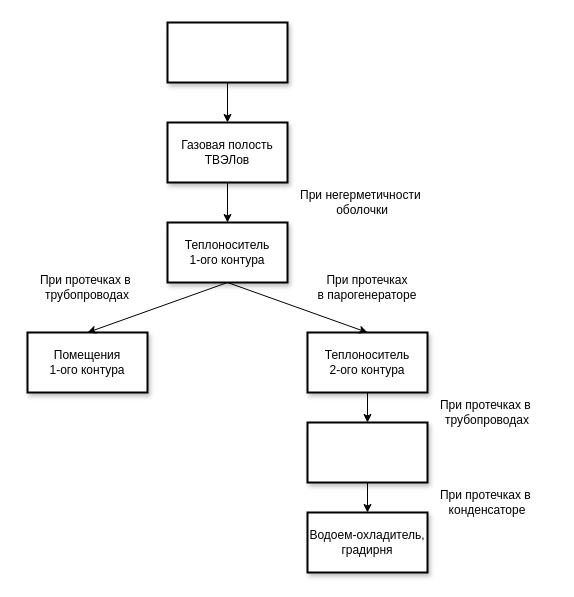
Some shapes in this 574 by 597 pixel diagram are drawn without their labels. The centre of each missing label's shape, as x and y in pixels:
Помещения 2-ого контура: point (368, 453)
Топливная таблетка: point (228, 53)
